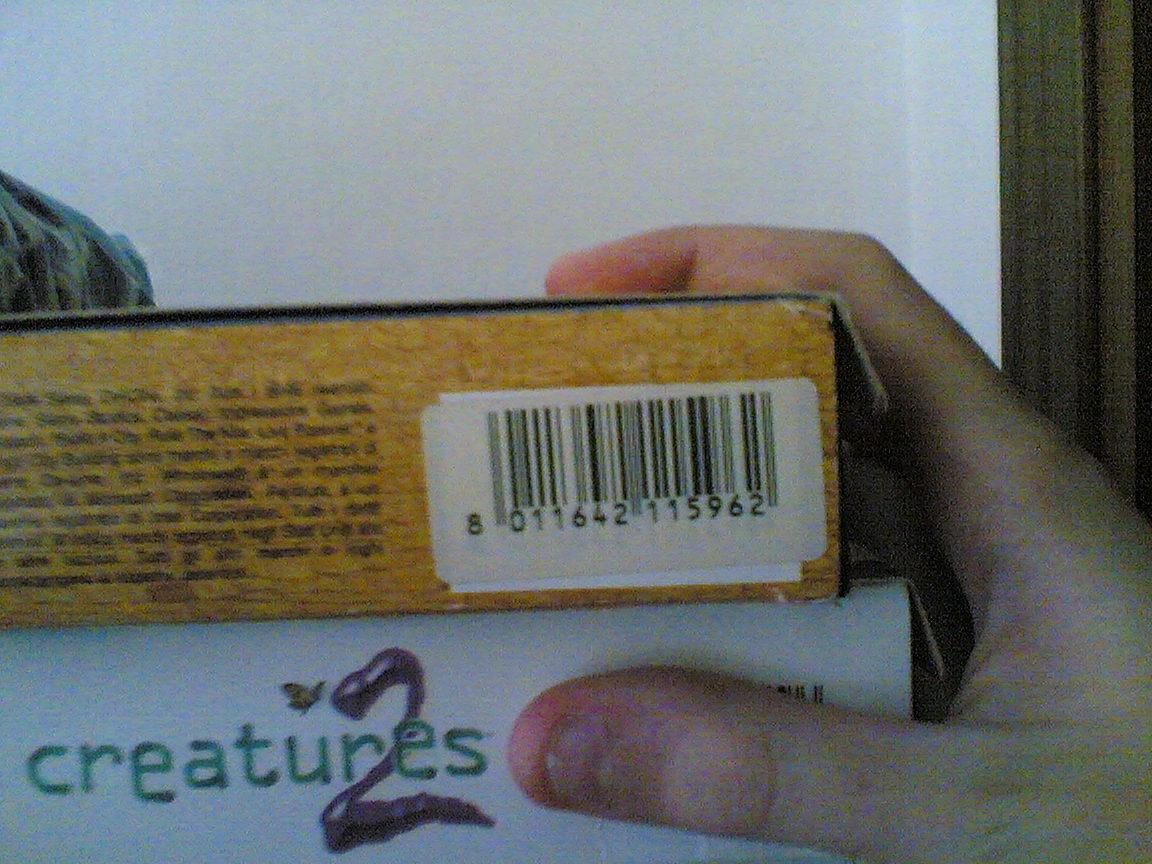Barcode: (454, 375, 799, 557)
